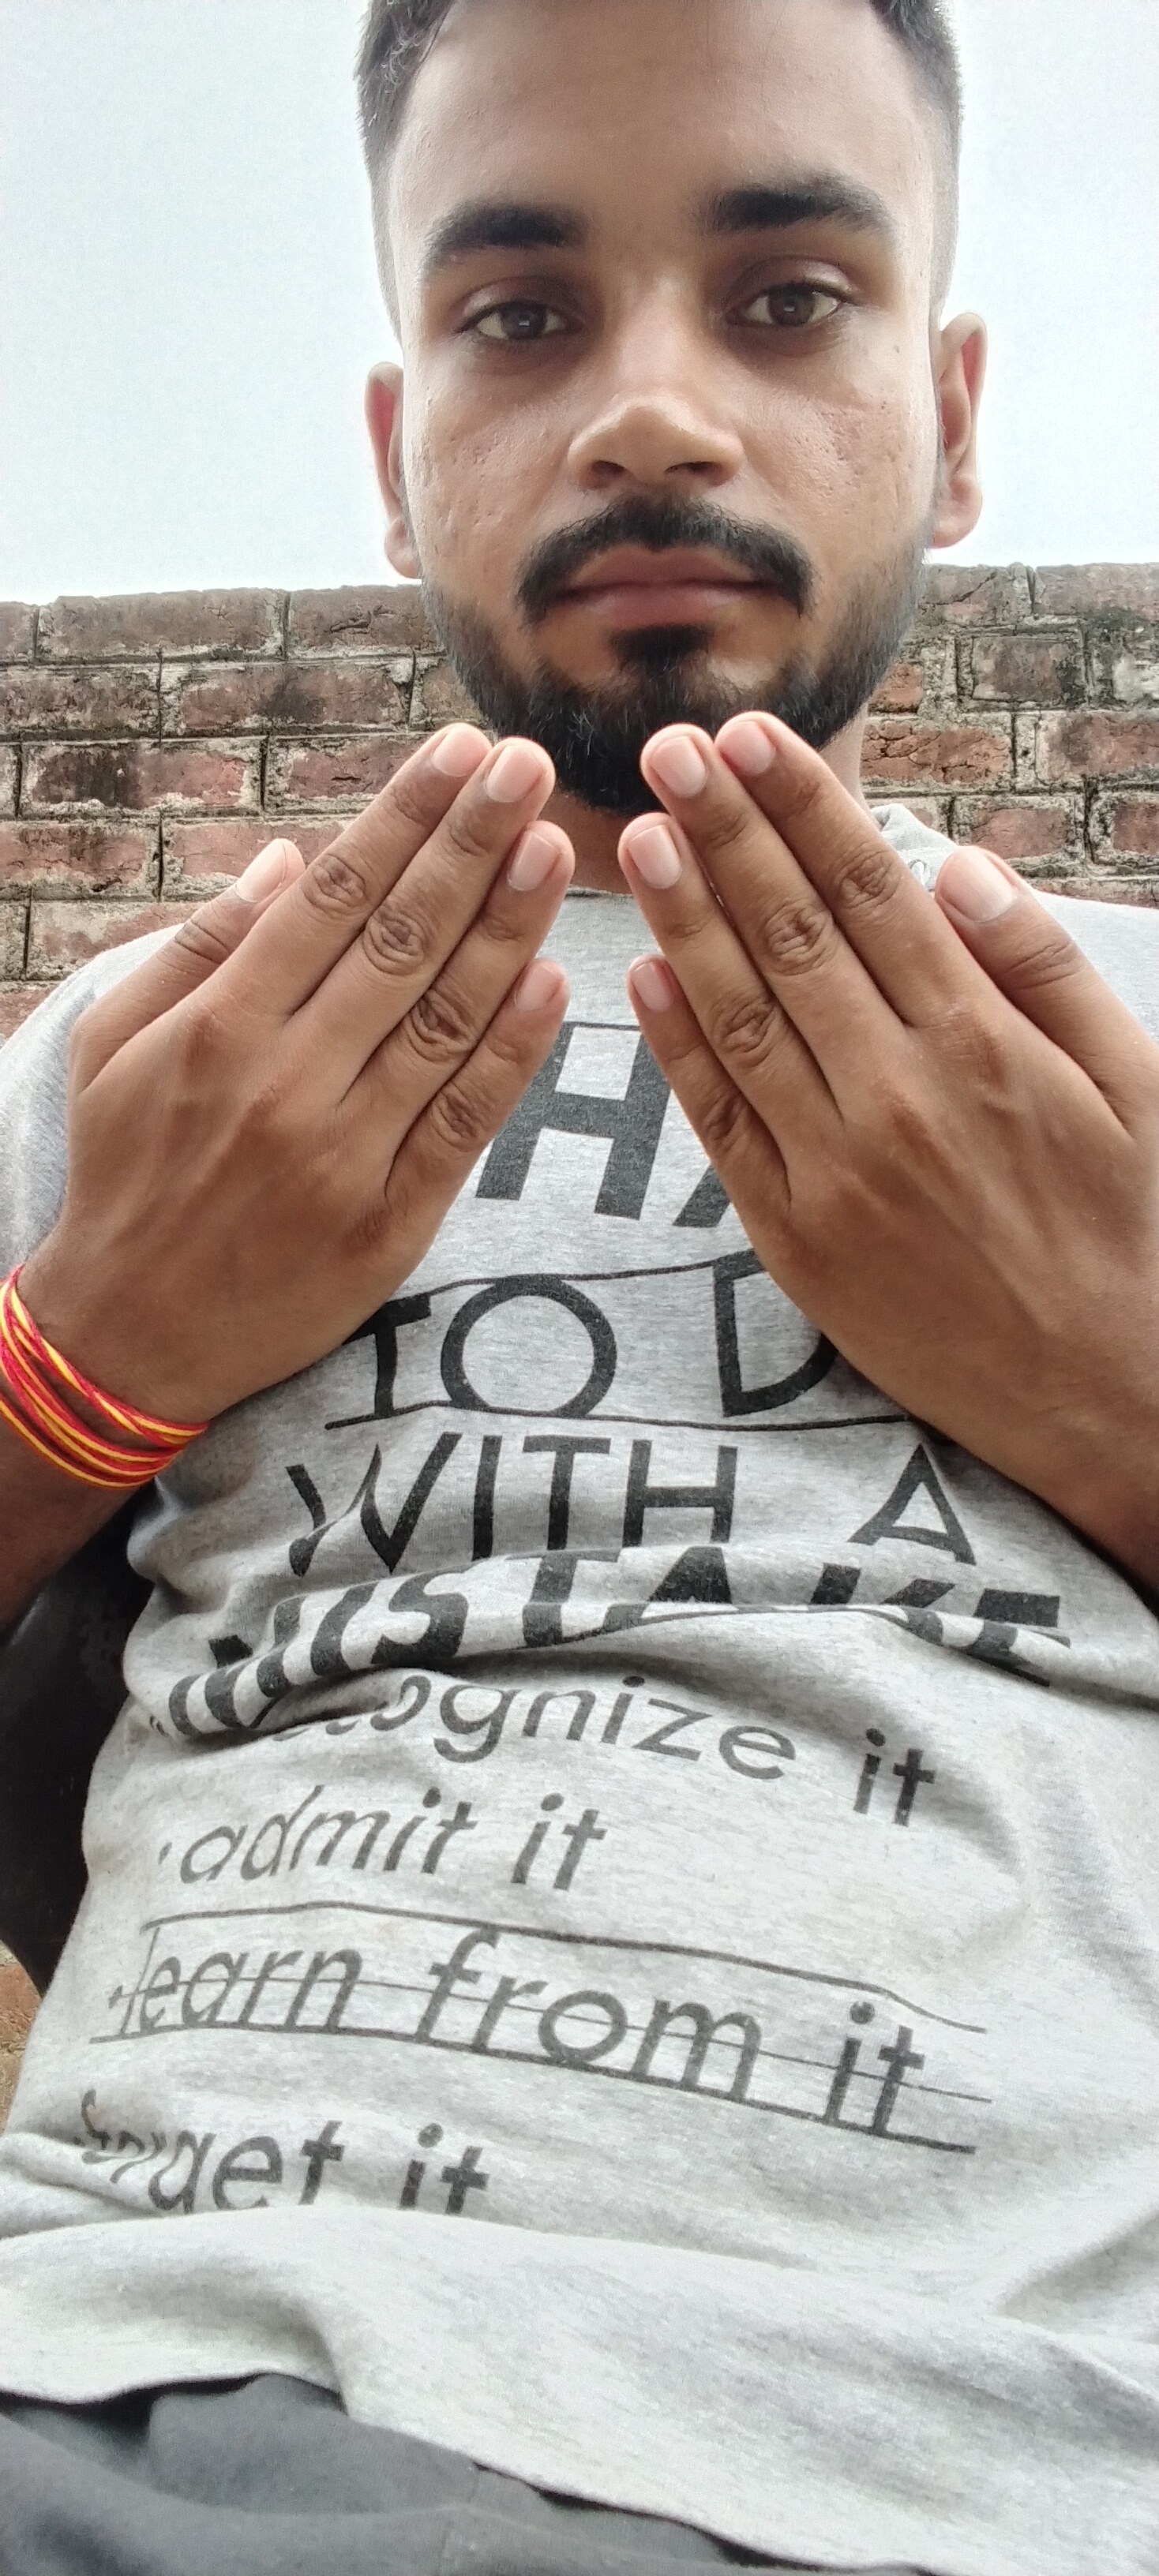Welcome: (54, 705, 1159, 1580)
